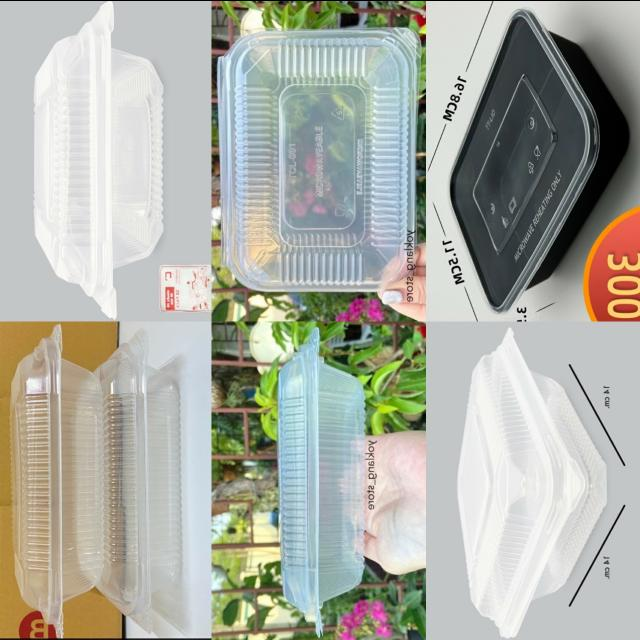plastik: (449, 7, 628, 312), (218, 27, 419, 289), (457, 328, 606, 637), (11, 325, 103, 635), (279, 328, 364, 634), (95, 330, 181, 630)
